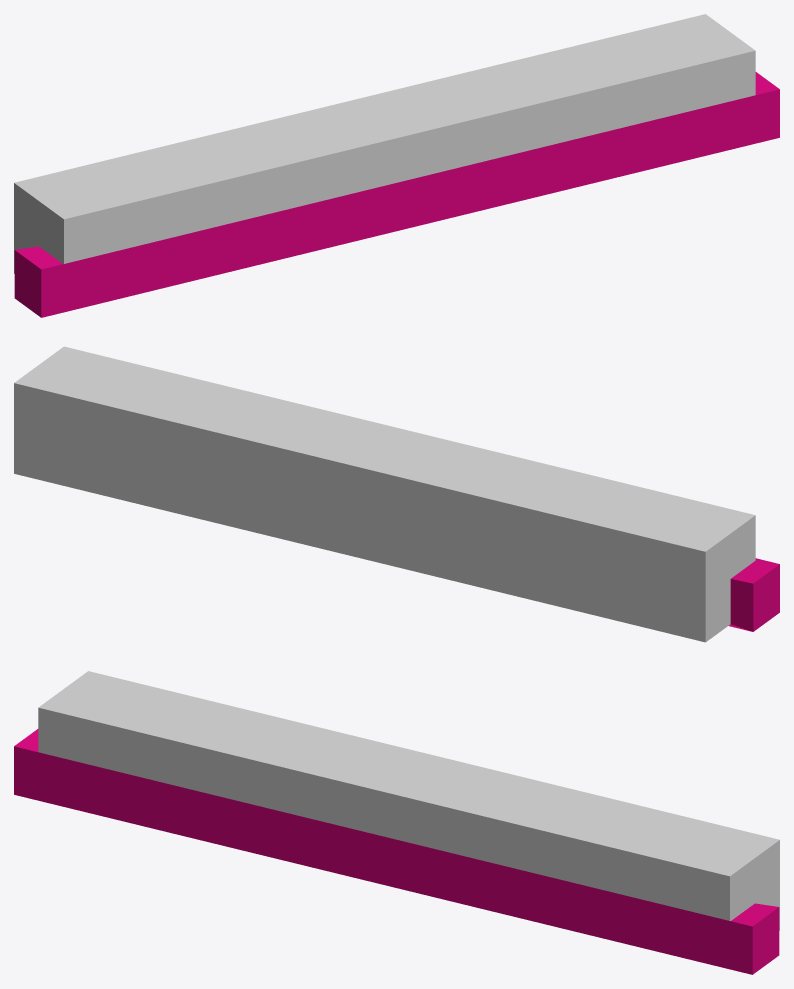
Rendered from FMP_FloresantLight.fbx.
3 renders of one model, top to bottom at view 1: azimuth 30°, elevation 25°; view 2: azimuth 150°, elevation 25°; view 3: azimuth 330°, elevation 25°, orthographic.
Parts seen in each view (by area): view 1: FloresantLightBody; view 2: FloresantLightBody; view 3: FloresantLightBody.
Boxes of the visible parts, x1,y1,x2,y2 form: FloresantLightBody: (14, 14, 779, 317); FloresantLightBody: (14, 346, 779, 642); FloresantLightBody: (14, 671, 779, 974).
Size of the model in its own units: 1.7 by 0.2034 by 0.2034.
